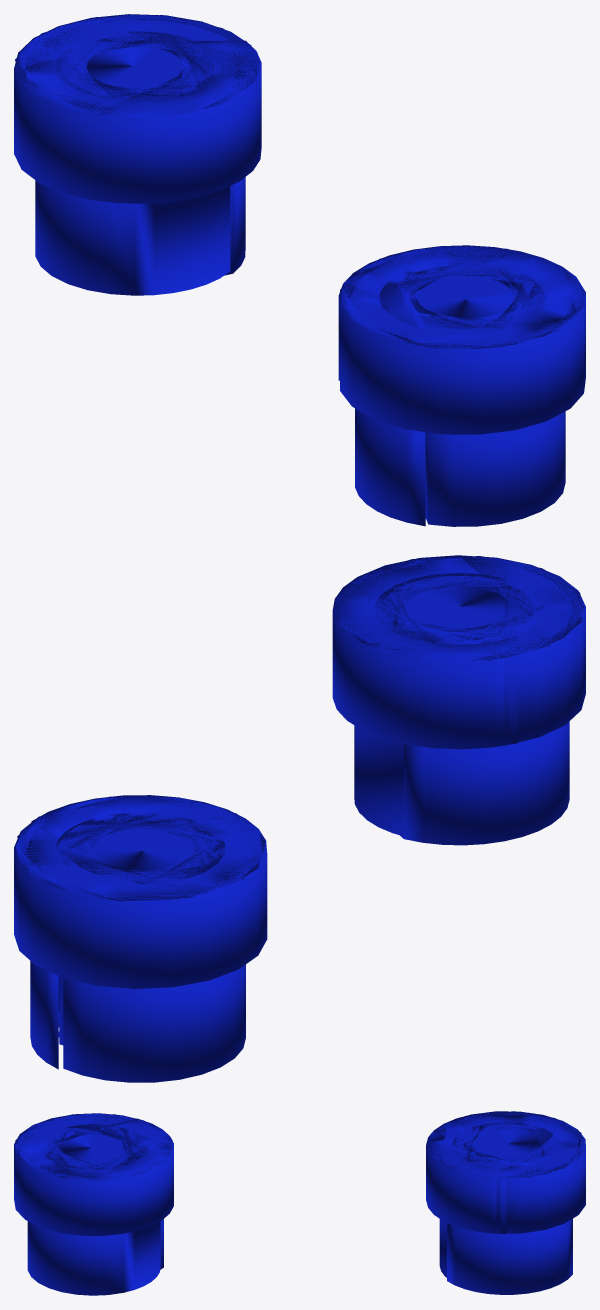
File: tuyeau_element_000005.obj
3 renders of one model, top to bottom at view 1: azimuth 30°, elevation 25°; view 2: azimuth 150°, elevation 25°; view 3: azimuth 270°, elevation 25°, orthographic. The views are drawn at different scales.
Visible parts, largest first — view 1: tuyeau2_Cube.017, tuyeau1_Cube.014; view 2: tuyeau2_Cube.017, tuyeau1_Cube.014; view 3: tuyeau1_Cube.014, tuyeau2_Cube.017.
Part boxes in pixels (x1,y1,x2,y2): tuyeau2_Cube.017: [338, 245, 585, 526]; tuyeau1_Cube.014: [14, 14, 261, 295]; tuyeau2_Cube.017: [332, 555, 585, 845]; tuyeau1_Cube.014: [14, 795, 267, 1082]; tuyeau1_Cube.014: [426, 1111, 585, 1294]; tuyeau2_Cube.017: [14, 1113, 173, 1295].
Bounding box in the file's own units: 3616 × 2917 × 12558.
